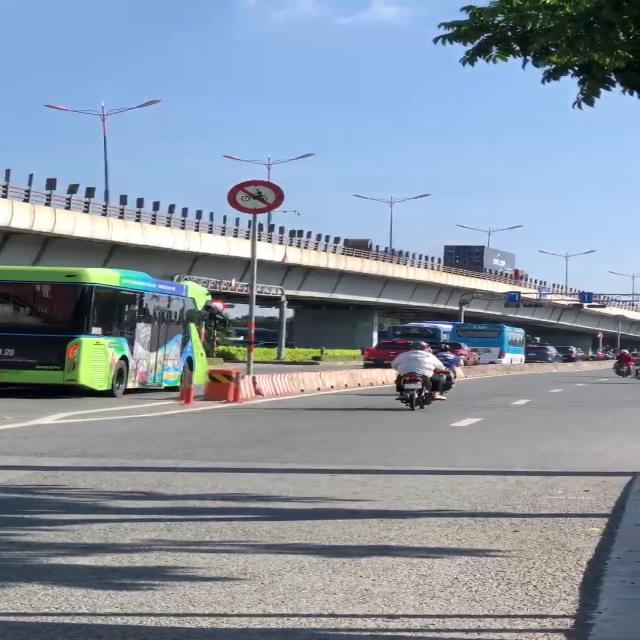Bien bao cam xe may: (216, 176, 293, 218)
